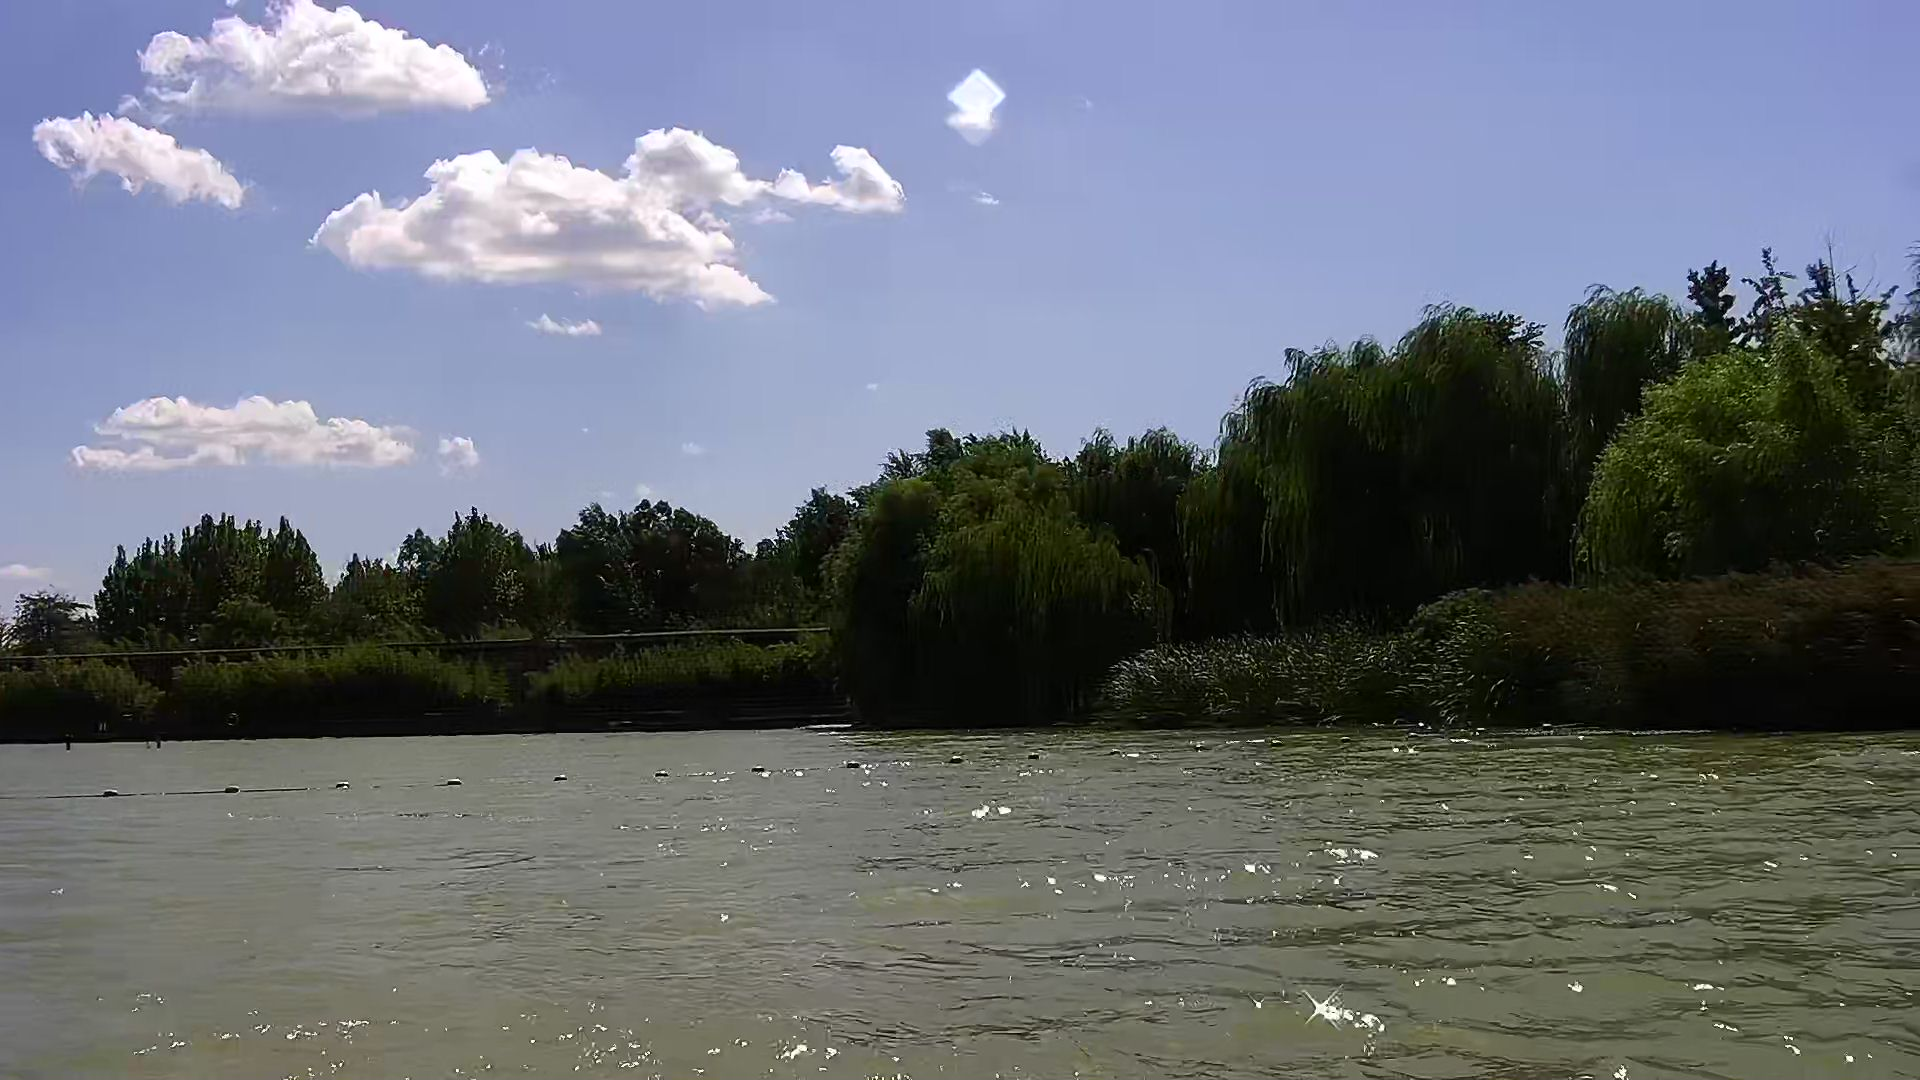ball: (547, 767, 576, 789), (218, 783, 248, 802), (748, 758, 767, 783), (98, 785, 125, 802), (845, 756, 868, 774), (949, 753, 963, 770)
